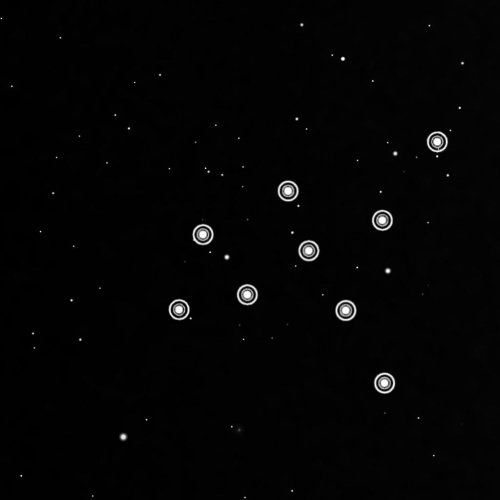cygnus: (164, 126, 453, 401)
